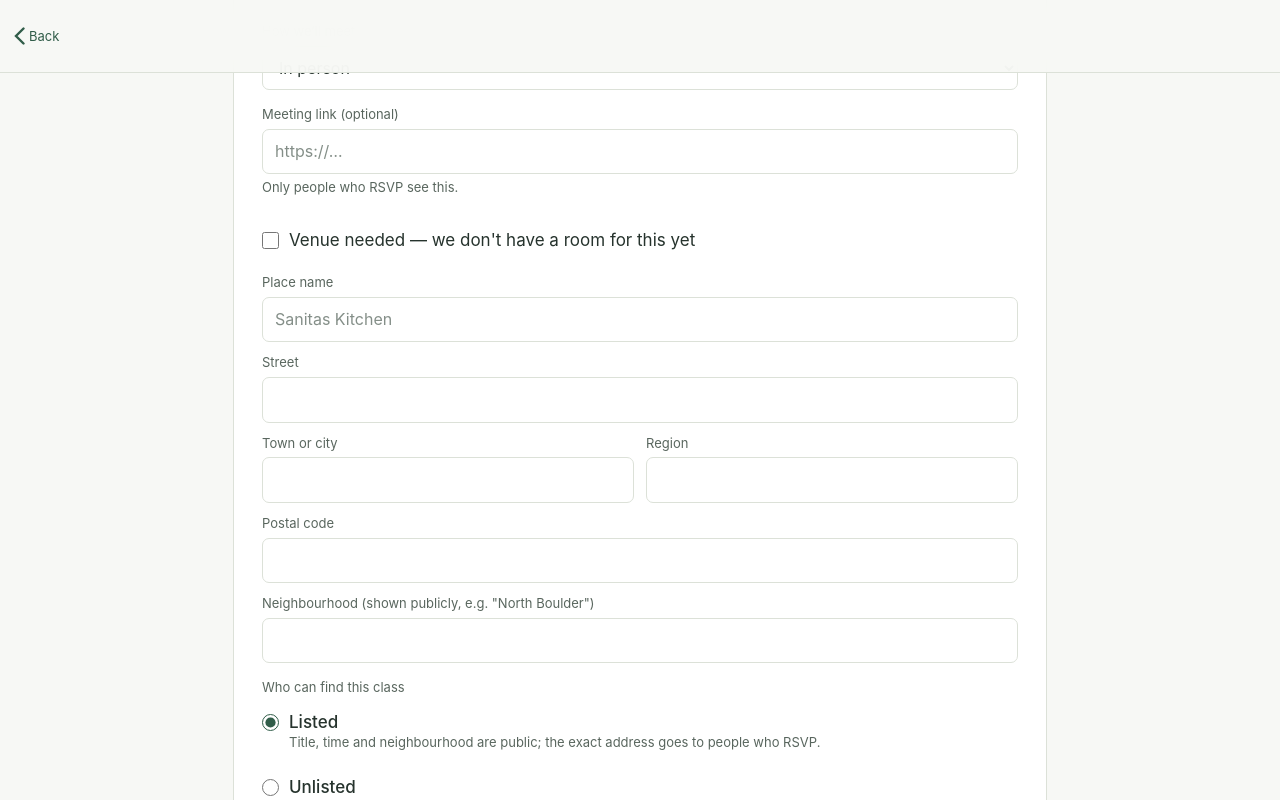
Test: EventEditScreen › venue needed clears the exact address and preserves an editable neighbourhood
(page scrolled)
Type "123 Main St" into the field labelled "Street" at (640, 400), box top-left (262, 377), bottom-right (1018, 423)
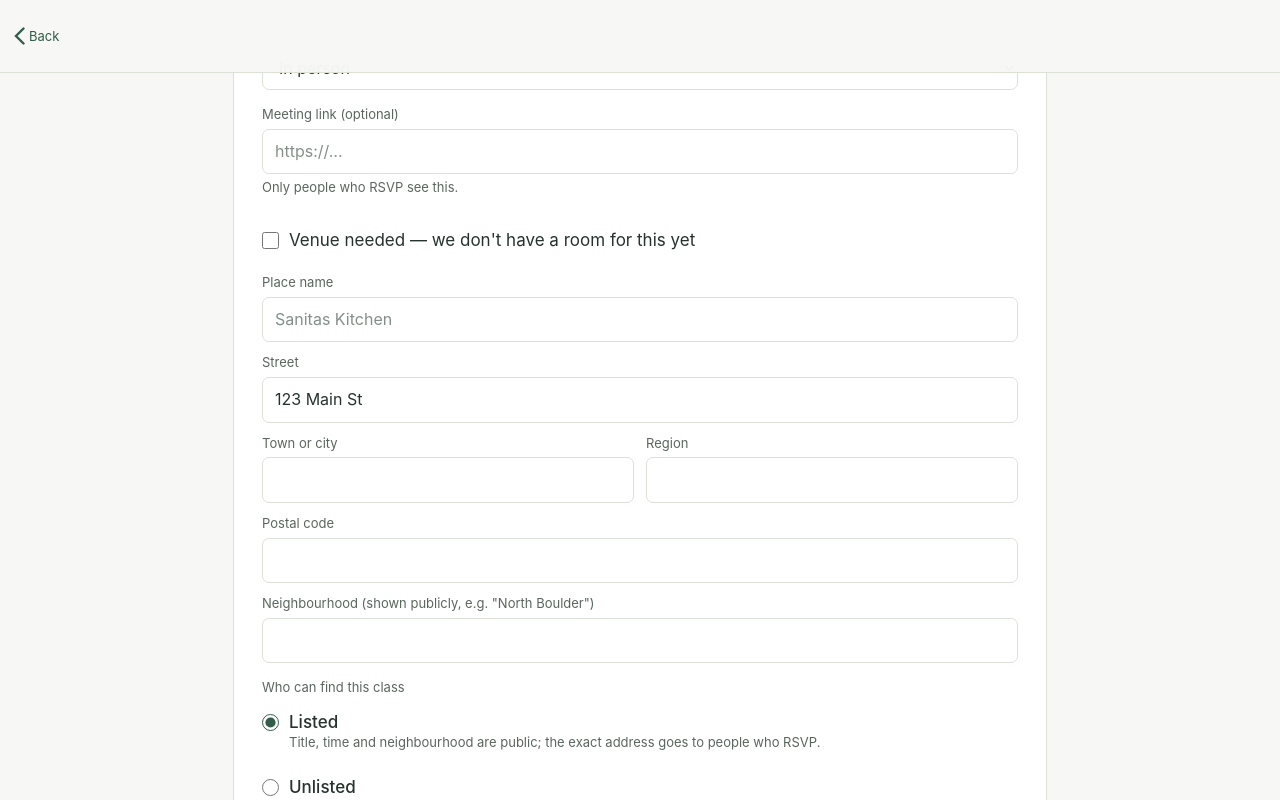
Type "North Boulder" into the field labelled "Neighbourhood (shown publicly, e.g. \"North Boulder\")" at (640, 640), box top-left (262, 618), bottom-right (1018, 663)
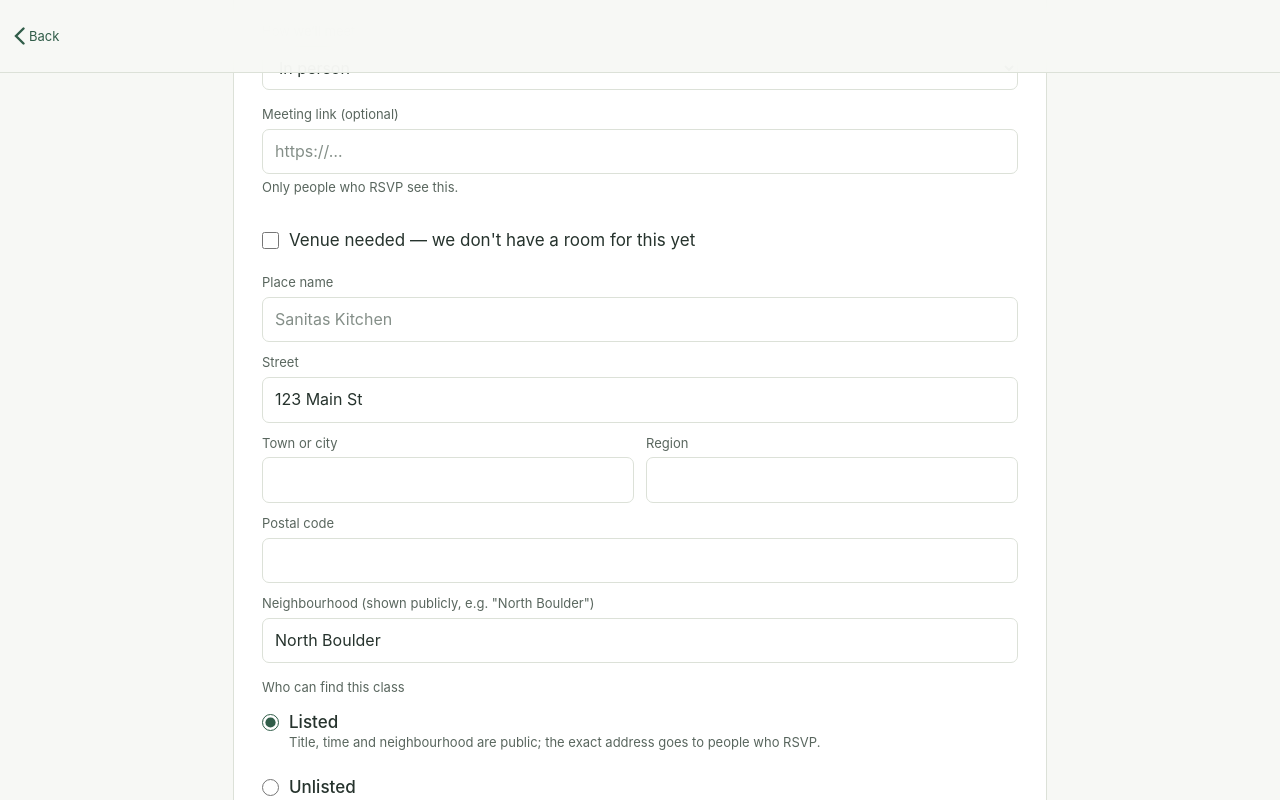
Click the checkbox labelled "Venue needed — we don't have a room for this yet" at (270, 240), box top-left (262, 232), bottom-right (279, 249)
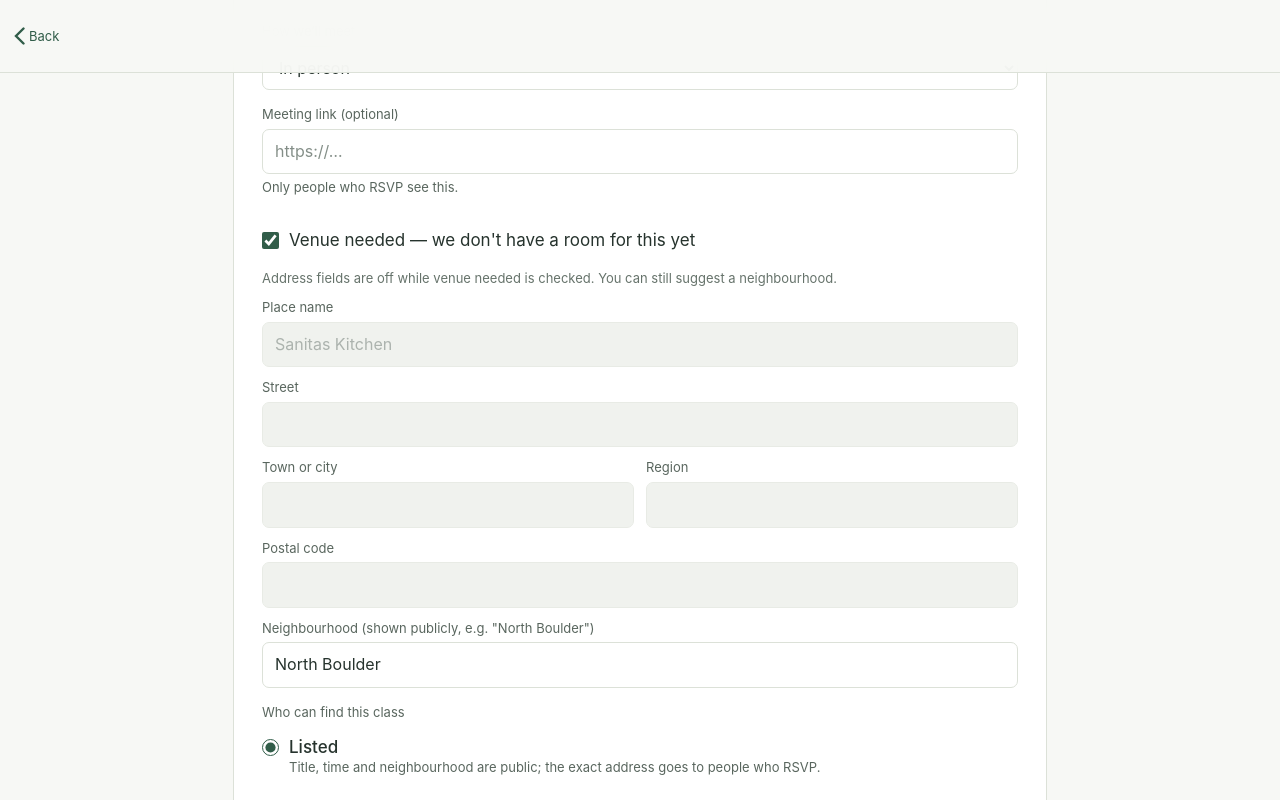
Check: the field labelled "Place name" is disabled, box top-left (262, 322), bottom-right (1018, 367)
Check: the field labelled "Street" is empty, box top-left (262, 402), bottom-right (1018, 448)
Check: the field labelled "Street" is disabled, box top-left (262, 402), bottom-right (1018, 448)
Click the checkbox labelled "Venue needed — we don't have a room for this yet" at (270, 240), box top-left (262, 232), bottom-right (279, 249)
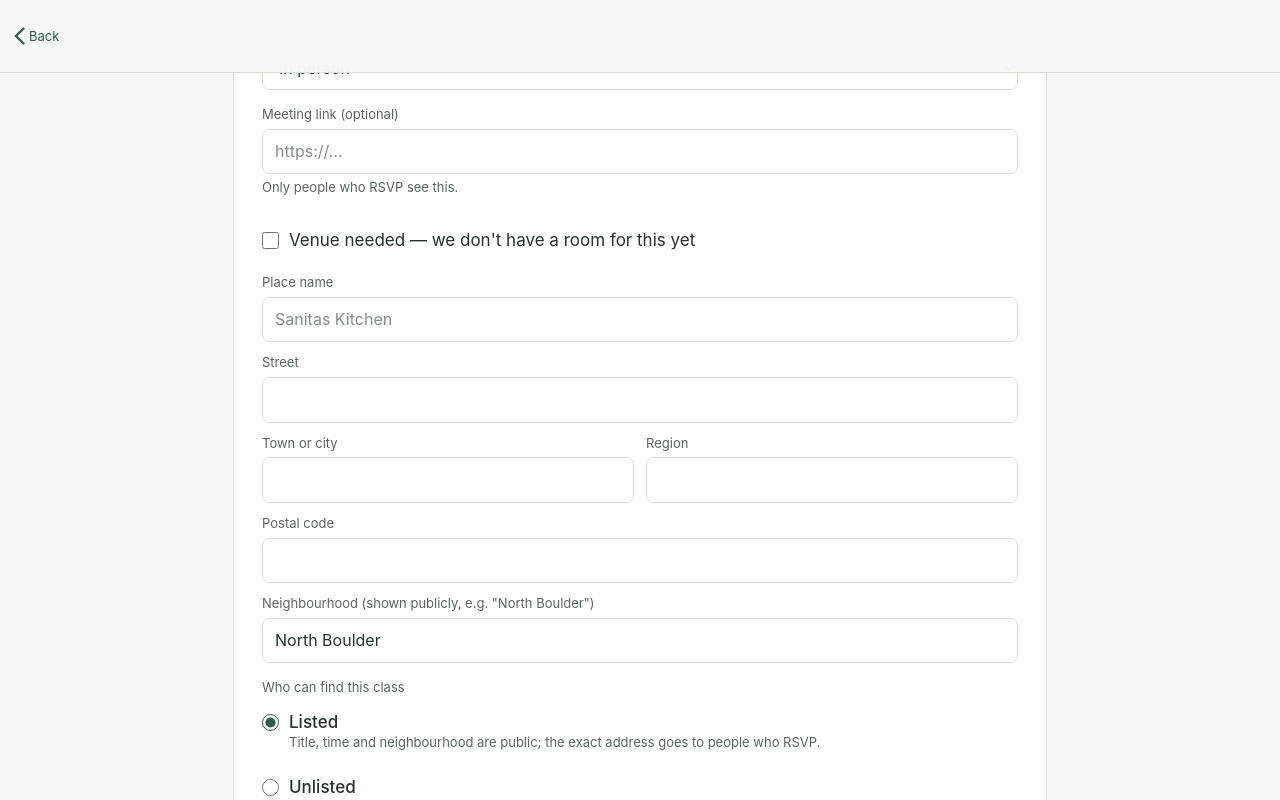
Check: the field labelled "Neighbourhood (shown publicly, e.g. \"North Boulder\")" is enabled, box top-left (262, 618), bottom-right (1018, 663)
Check: the field labelled "Street" is enabled, box top-left (262, 377), bottom-right (1018, 423)
